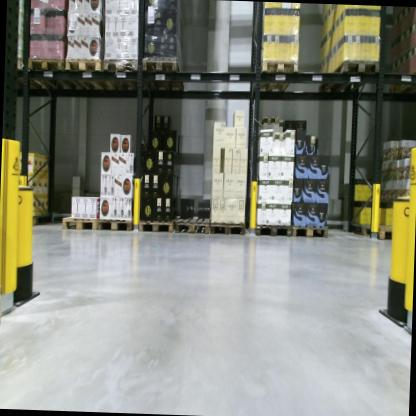pallet: (313, 55, 378, 100), (141, 53, 196, 99), (24, 53, 74, 98), (248, 58, 301, 99), (6, 50, 49, 95), (62, 58, 109, 99), (100, 56, 144, 98), (344, 217, 394, 245), (137, 210, 182, 236), (211, 214, 247, 242), (388, 66, 416, 101), (96, 217, 136, 241), (291, 219, 332, 242), (174, 214, 215, 236), (59, 213, 99, 233), (252, 221, 293, 240), (29, 211, 52, 228), (0, 283, 6, 336)
